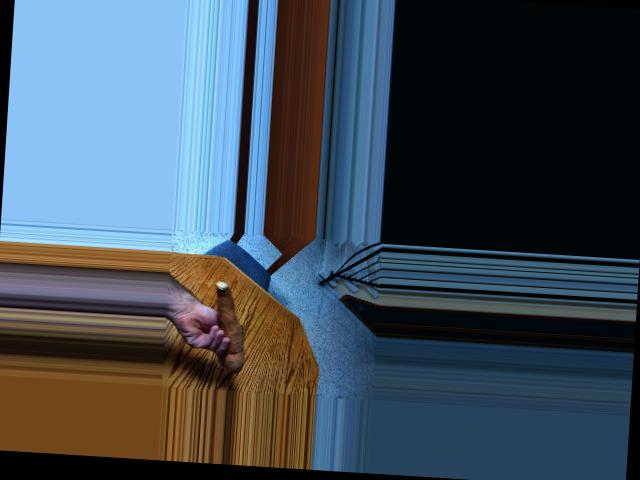sweet_potato: (207, 285, 252, 369)
